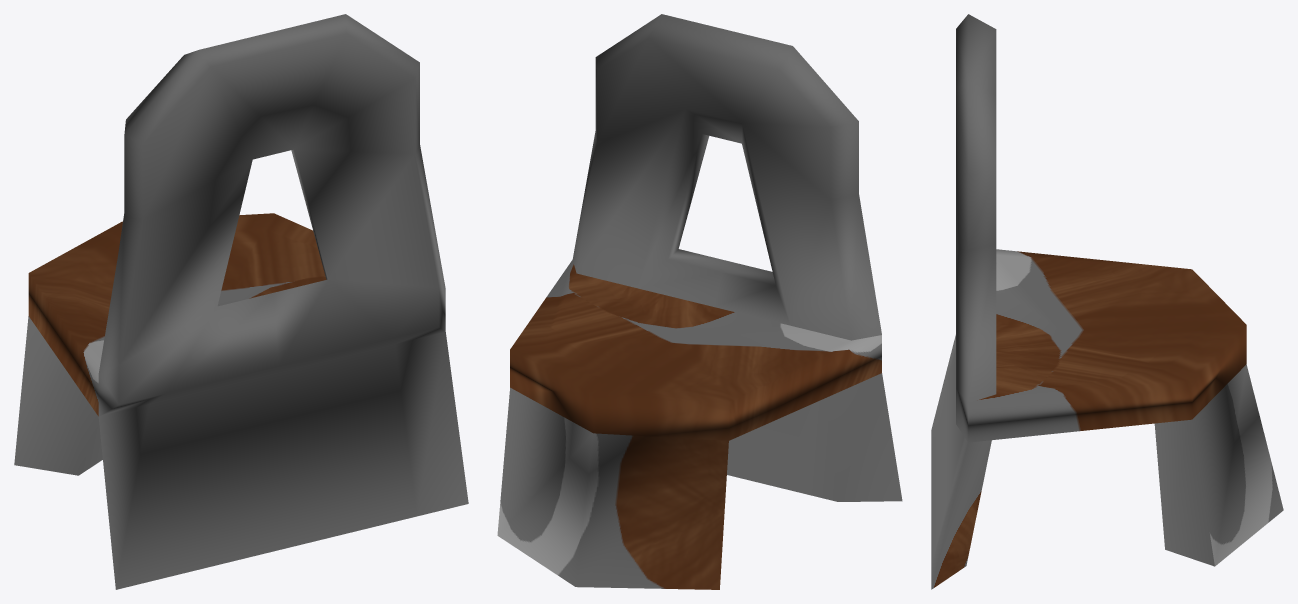
Rendered from Cadeira.fbx.
3 renders of one model, left to right at view 1: azimuth 30°, elevation 25°; view 2: azimuth 150°, elevation 25°; view 3: azimuth 270°, elevation 25°, orthographic. The views are drawn at different scales.
Parts seen in each view (by area): view 1: pCylinder44; view 2: pCylinder44; view 3: pCylinder44.
Boxes of the visible parts, left/top/right/bottom form: pCylinder44: left=14, top=14, right=468, bottom=589; pCylinder44: left=497, top=14, right=902, bottom=589; pCylinder44: left=931, top=14, right=1283, bottom=589.
Size of the model in its own units: 20.31 by 27.51 by 18.98.
